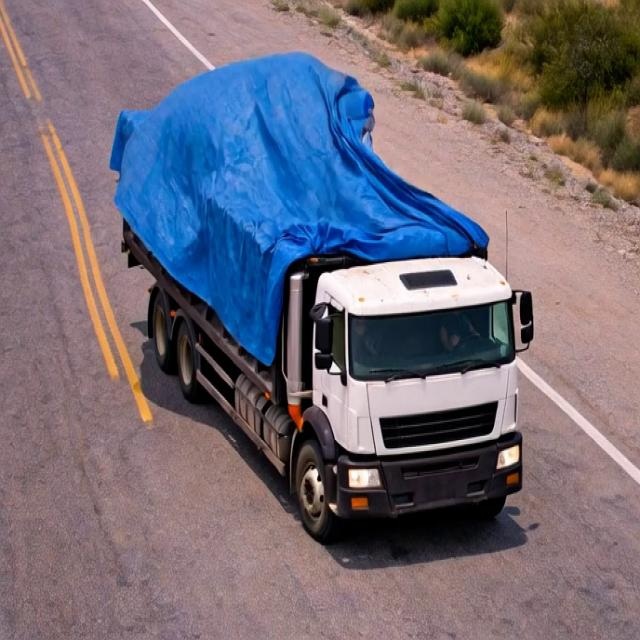trailer: (128, 56, 465, 256)
truck: (100, 39, 537, 543)
